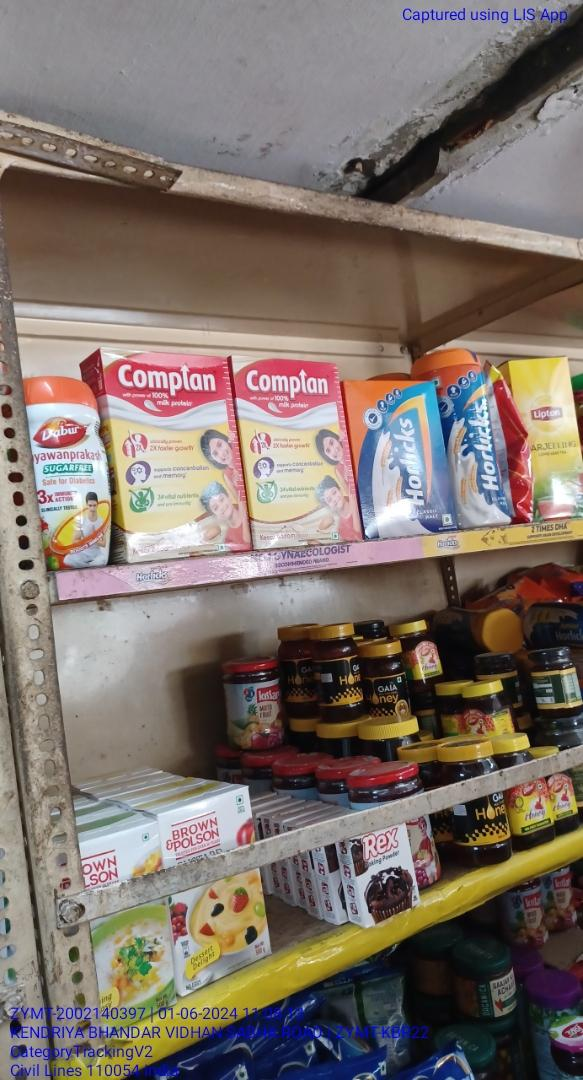HORLICK_CLASSIC_MALT_500_G_JAR: (446, 349, 507, 523)
